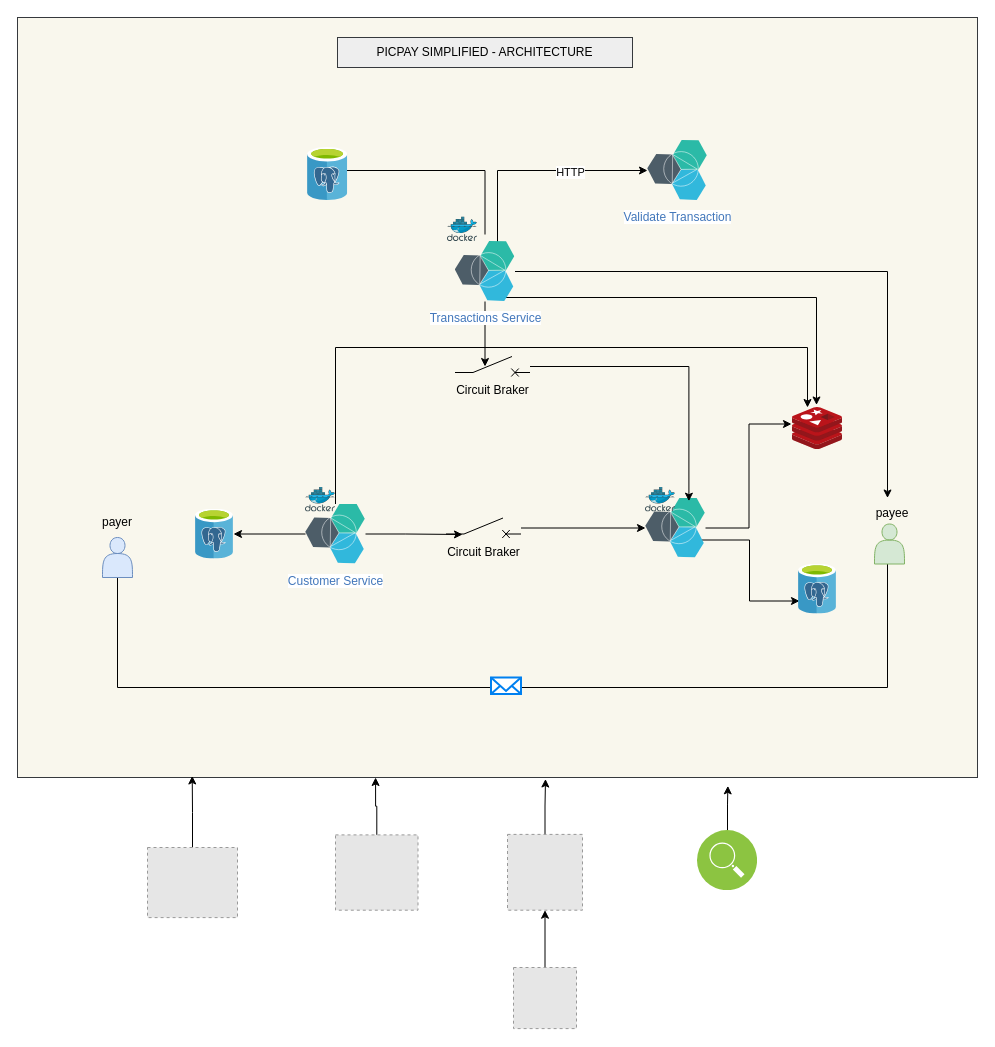
Some shapes in this 995 by 1047 pixel diagram are drawn without their labels. Grey dashed boxes stand in for pictures. Each missing label, with the box of its shape:
Account Service: (645, 498, 705, 558)
Cache Accounts: (792, 407, 842, 449)
Sevice Config: (697, 830, 757, 890)
